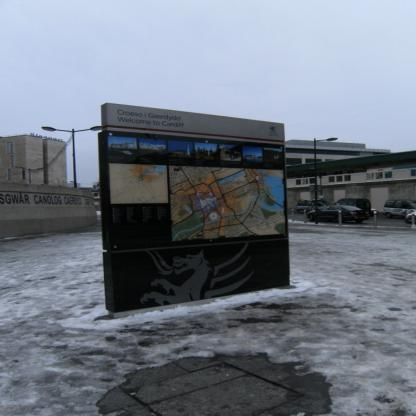Car: (294, 198, 415, 224)
